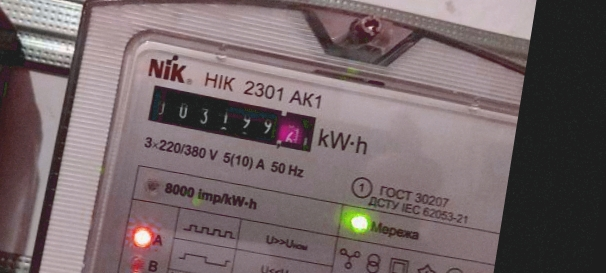0: (151, 94, 166, 116), (174, 97, 189, 119)
1: (218, 104, 231, 124)
3: (196, 104, 209, 124)
6: (283, 126, 295, 144)
9: (238, 108, 252, 130), (259, 114, 273, 134)
screen: (138, 78, 326, 160)
